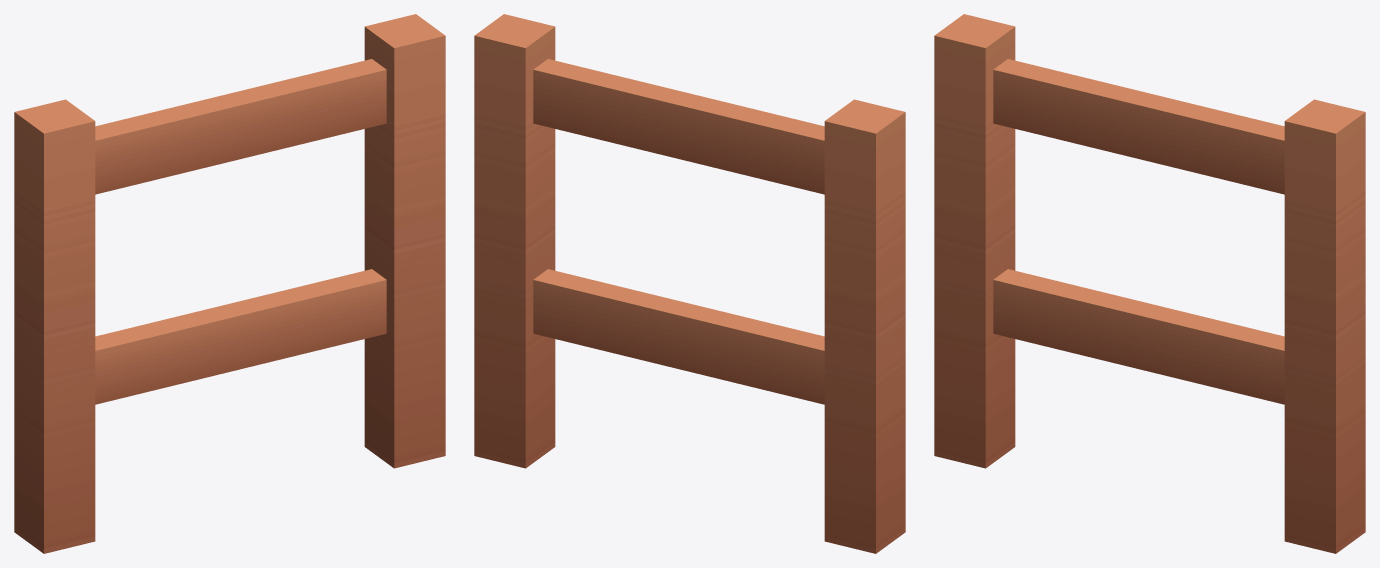
The model's file is wood-structure-high-part.glb.
3 views of the same model, side by side, from view 1: azimuth 30°, elevation 25°; view 2: azimuth 150°, elevation 25°; view 3: azimuth 330°, elevation 25° (orthographic).
Visible parts, largest first — view 1: wood-structure-high-part; view 2: wood-structure-high-part; view 3: wood-structure-high-part.
Boxes of the visible parts, x1,y1,x2,y2 form: wood-structure-high-part: (14, 14, 445, 553); wood-structure-high-part: (474, 14, 905, 553); wood-structure-high-part: (934, 14, 1365, 553).
Size of the model in its own units: 1 by 1 by 0.1279.
1 material, 1 textured.
